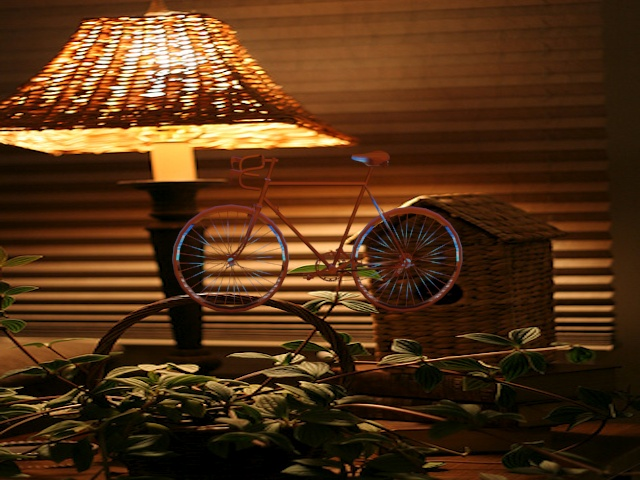bike: (160, 144, 465, 321)
